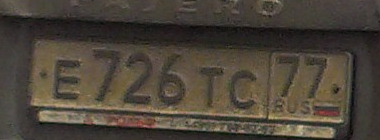character: (120, 48, 154, 107), (155, 51, 189, 108), (226, 65, 262, 110), (91, 47, 119, 104), (51, 56, 83, 99), (196, 64, 225, 111), (301, 56, 328, 103), (275, 55, 300, 103)
